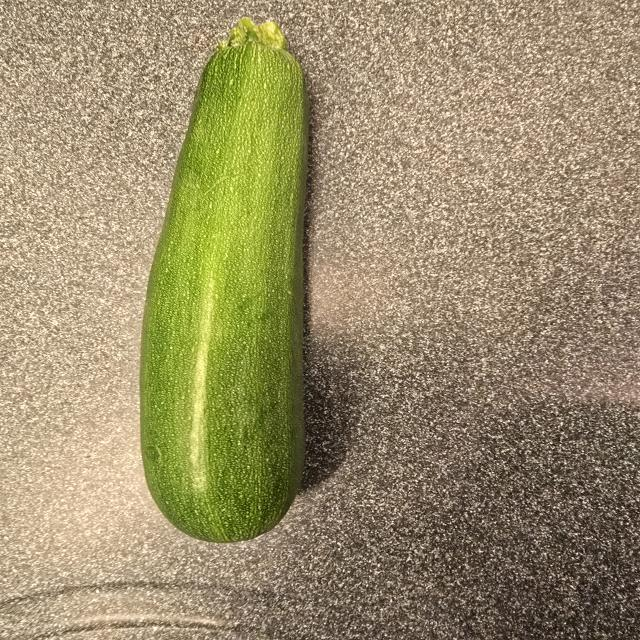Courgette: (140, 18, 308, 542)
